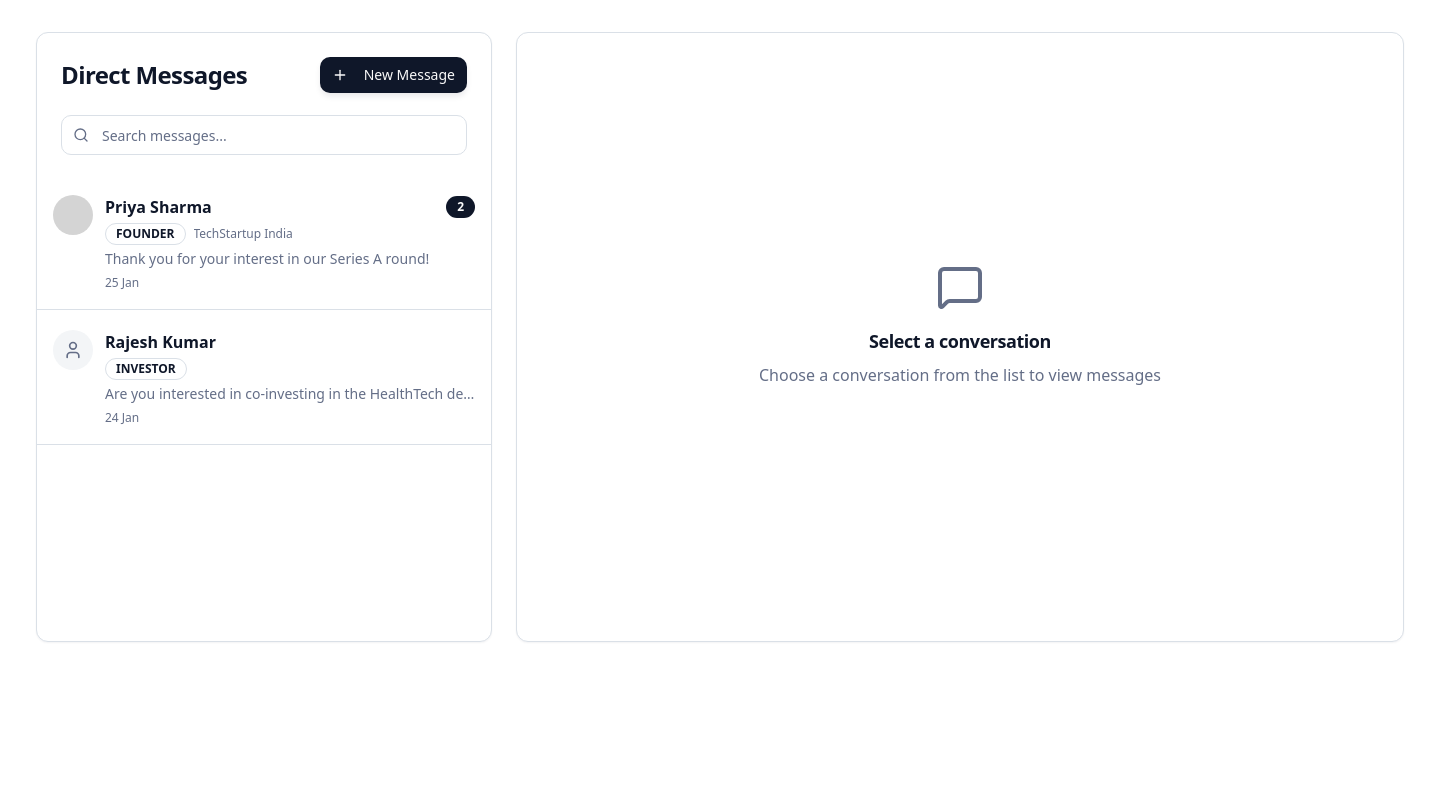
Test case: US-INVESTOR-014: Send Direct Messages › Send Messages › should display messages in conversation
Step 1. Click the text "Priya Sharma" → x=158, y=207, box [105,195,212,219]
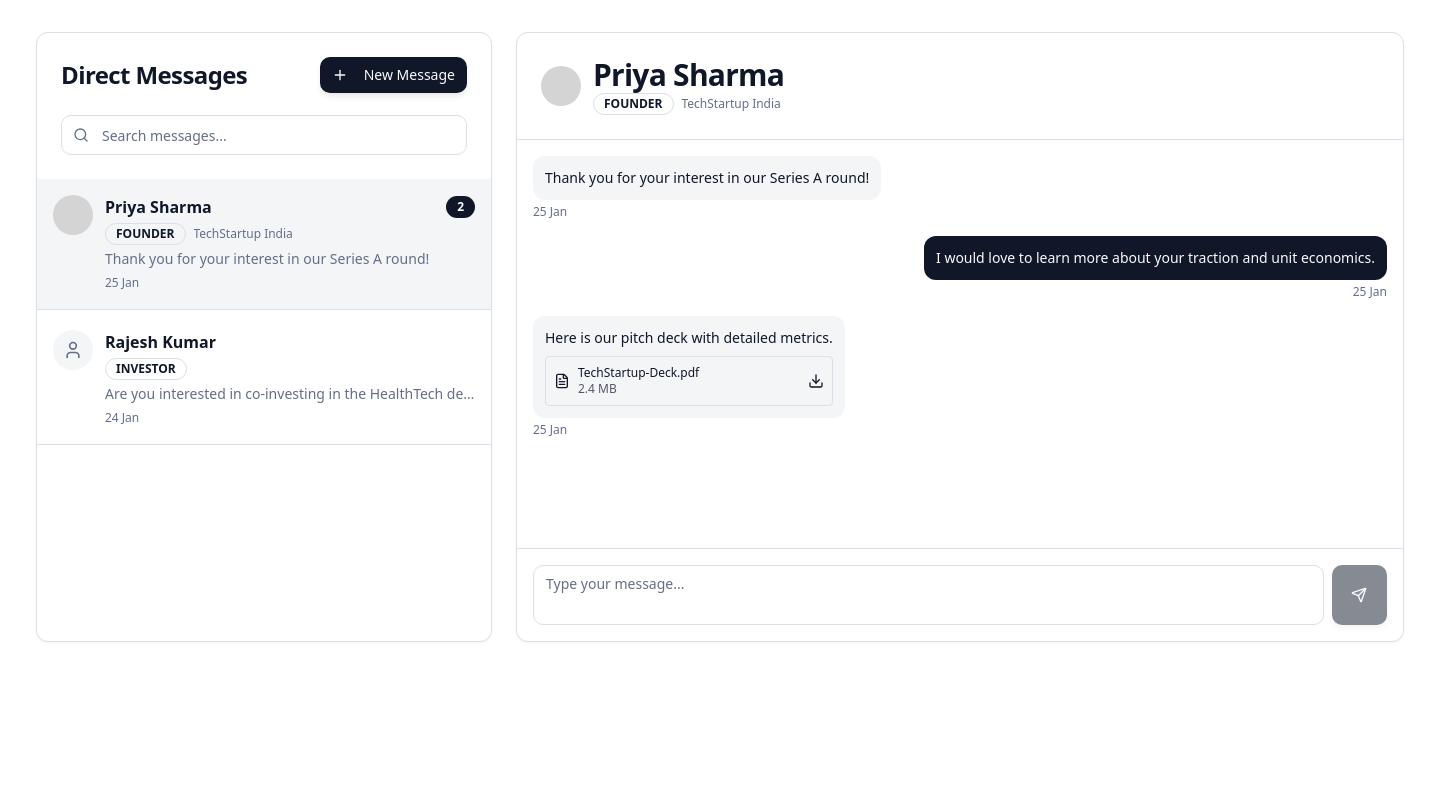
Check: the text "I would love to learn more about your traction" is shown, box [936,248,1375,267]
Check: the text "Here is our pitch deck with detailed metrics." is shown, box [545,328,833,348]
